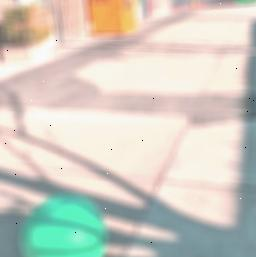algae: (19, 192, 110, 257)
